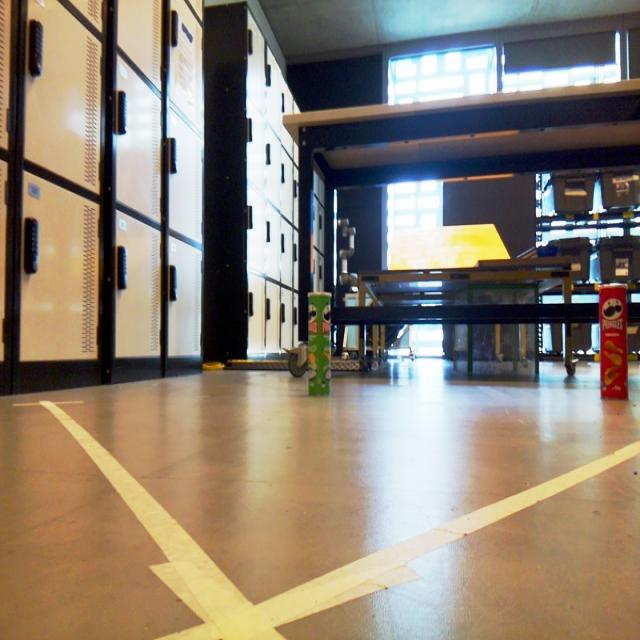greenpringles: (303, 278, 346, 403)
redpringles: (588, 282, 640, 403)
